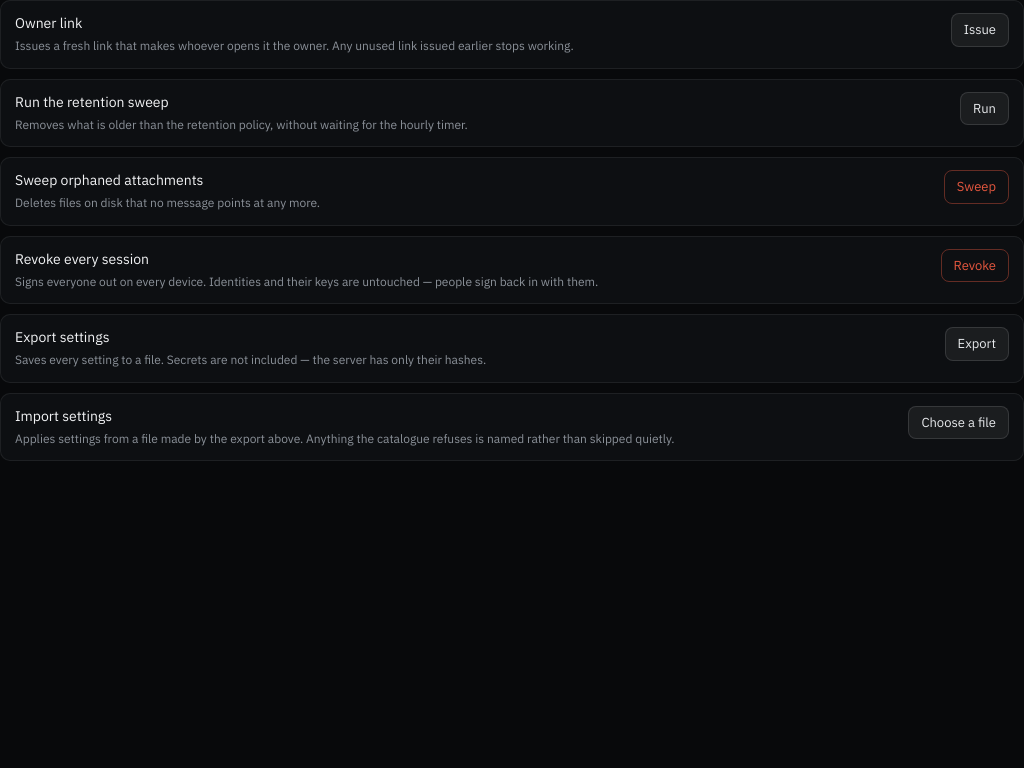
вкладка «Обслуживание» › исход виден и когда получилось, и когда отказали
Click the button "Sweep" at (976, 187), box [944, 170, 1009, 204]
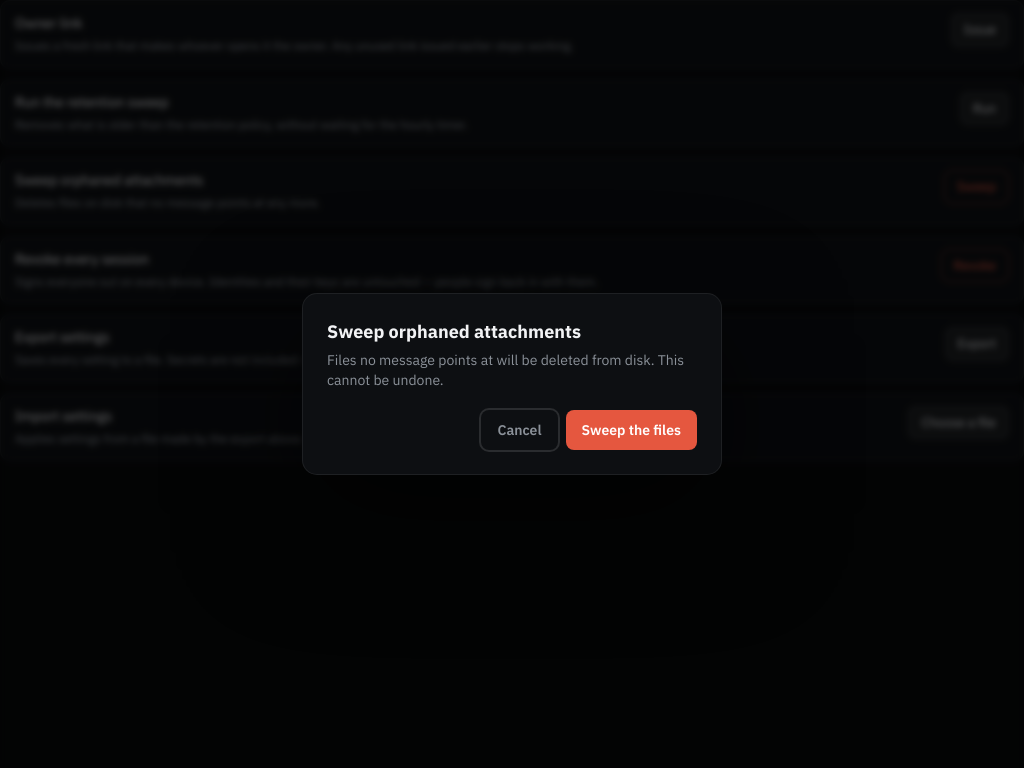
Click the button "Sweep the files" at (631, 430), box [566, 410, 697, 450]
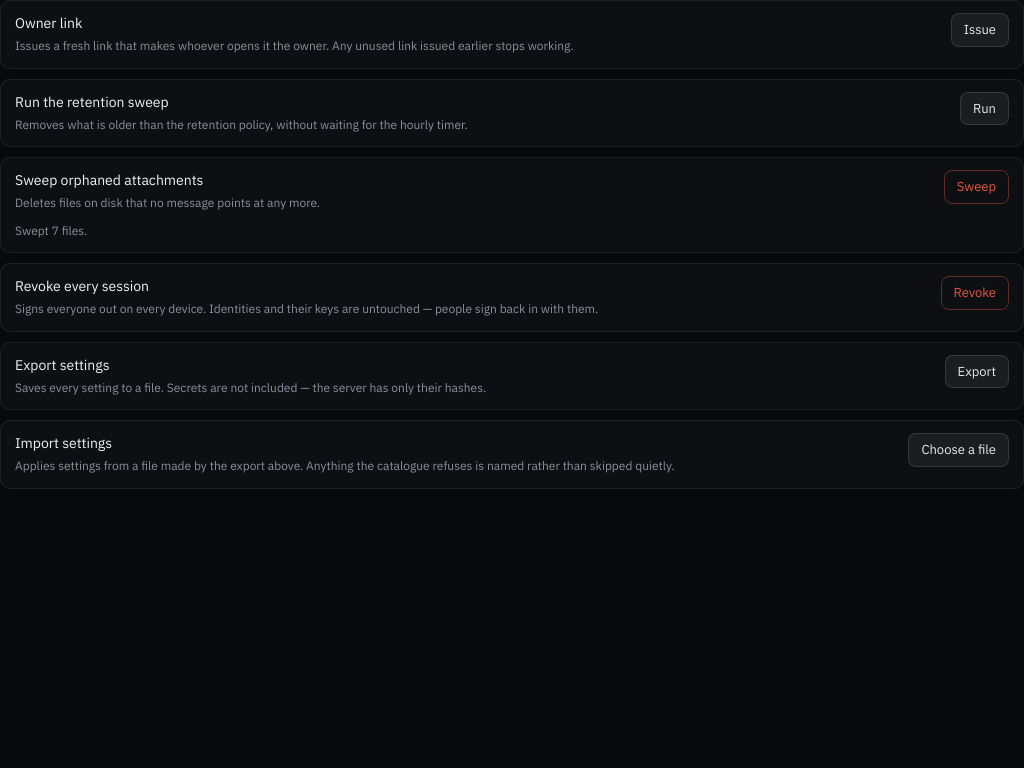
Click the button "Run" at (984, 108), box [960, 92, 1009, 125]
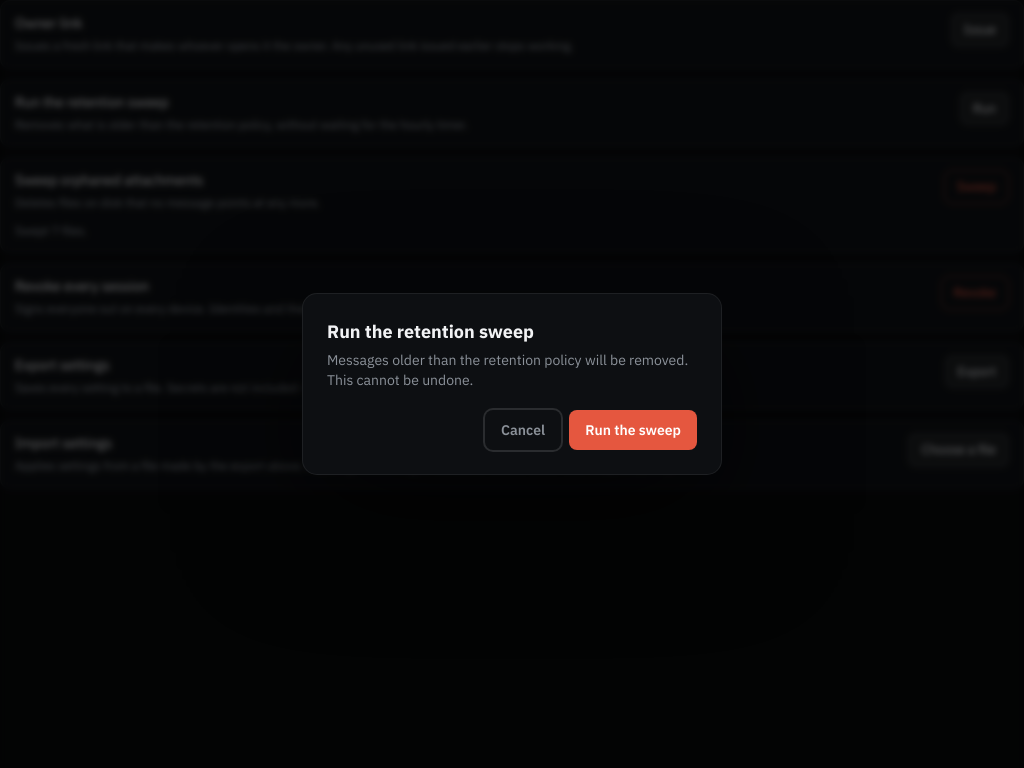
Click the button "Run the sweep" at (633, 430), box [569, 410, 697, 450]
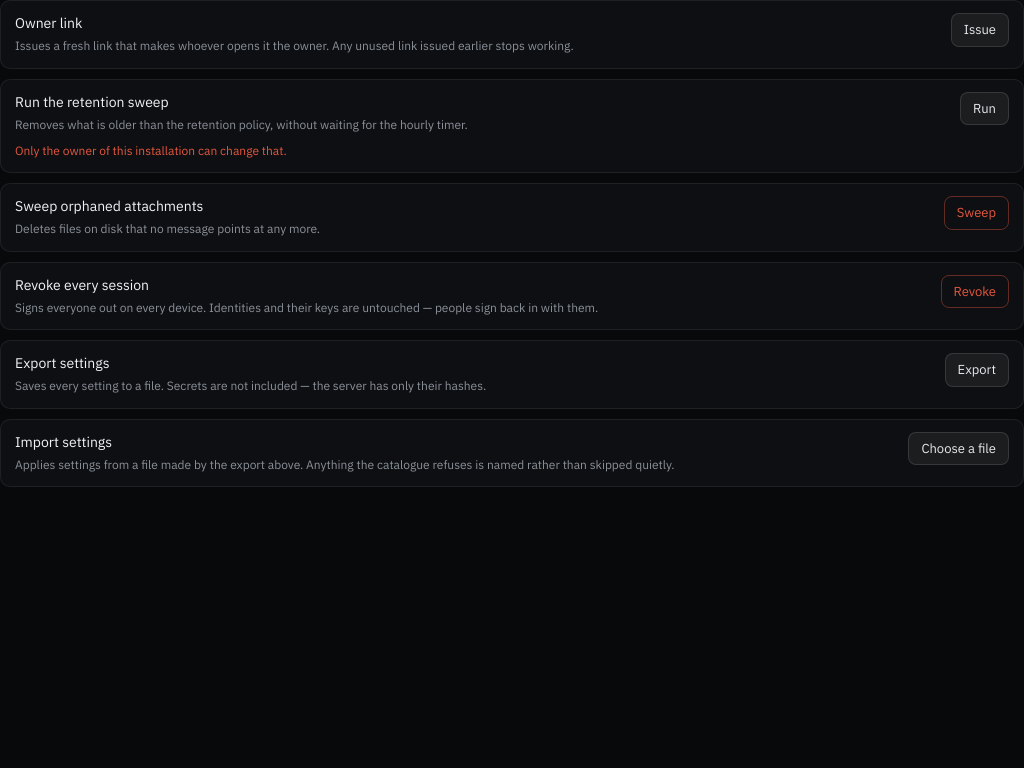
Result: the text "Only the owner of this installation can change that." is shown at [15, 143, 287, 158]
